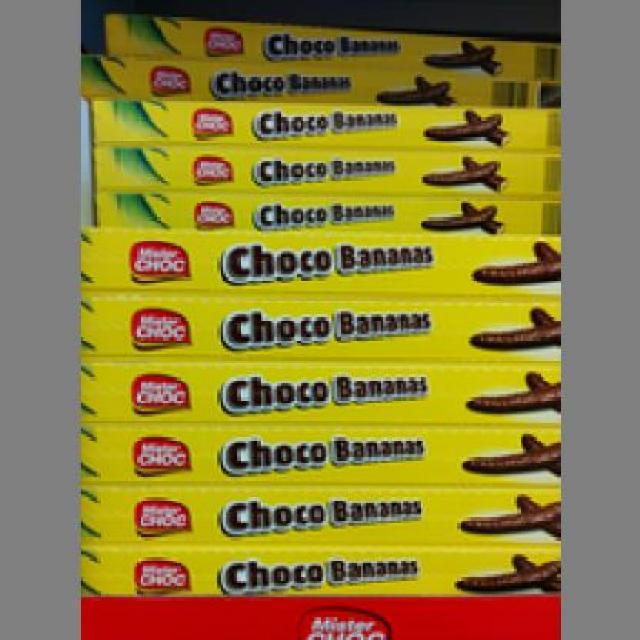Chocolate: (77, 226, 557, 292), (77, 363, 560, 426), (77, 292, 557, 354), (77, 486, 557, 546), (77, 426, 557, 483), (74, 542, 554, 592)
